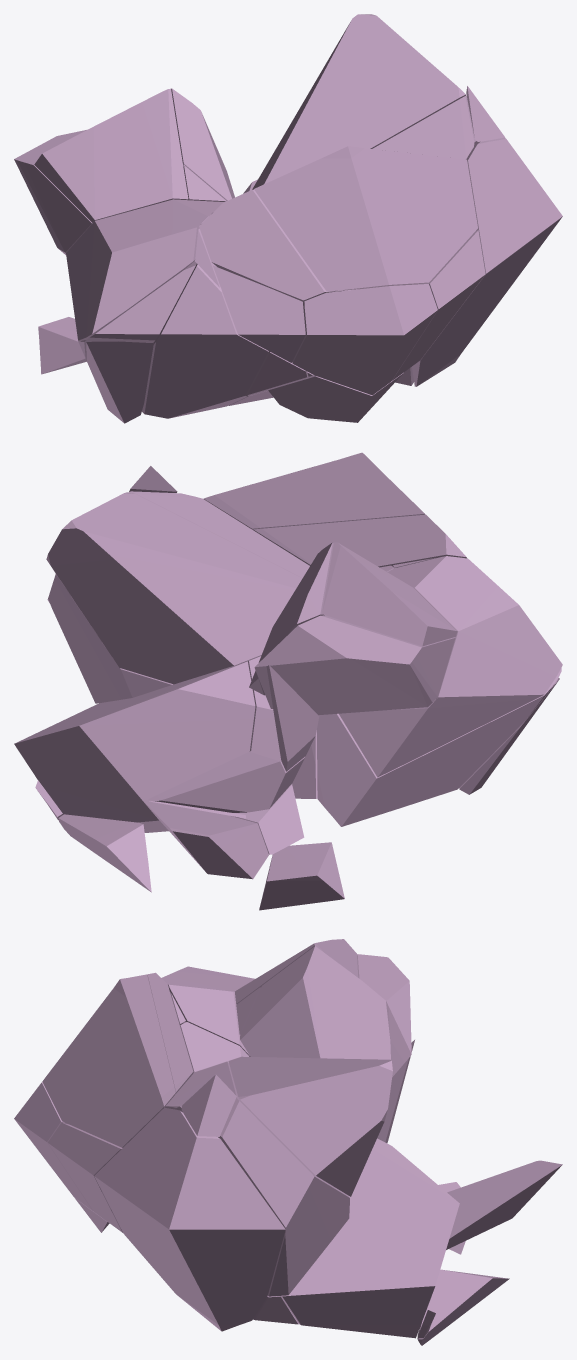
File: crystal_left.fbx
3 renders of one model, top to bottom at view 1: azimuth 30°, elevation 25°; view 2: azimuth 150°, elevation 25°; view 3: azimuth 270°, elevation 25°, orthographic. The views are drawn at different scales.
Visible parts, largest first — view 1: Crystal_piece_left; view 2: Crystal_piece_left; view 3: Crystal_piece_left.
Boxes of the visible parts, <box> form: Crystal_piece_left: <box>14,14,562,423</box>; Crystal_piece_left: <box>14,452,562,910</box>; Crystal_piece_left: <box>14,939,562,1345</box>.
Size of the model in its own units: 82.4 by 54.45 by 87.47.
